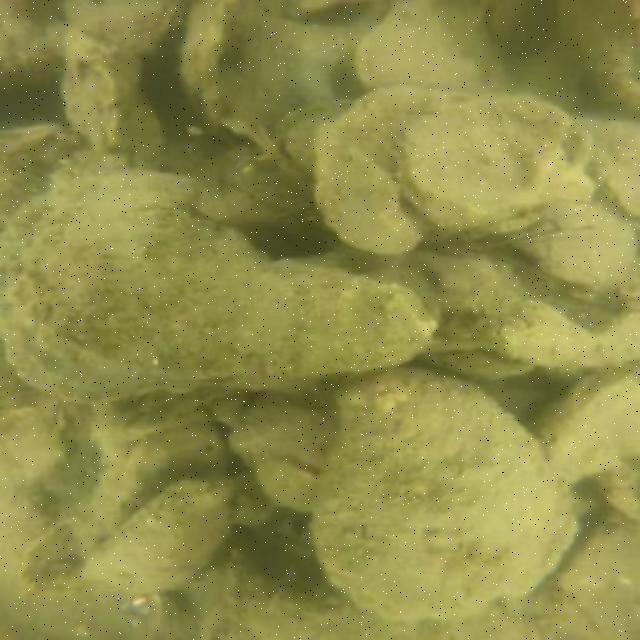Oyster-Closed: (1, 162, 428, 401), (319, 369, 565, 617), (398, 102, 596, 235), (313, 89, 472, 251), (226, 588, 638, 638), (86, 476, 233, 594), (351, 2, 496, 95), (544, 367, 637, 480), (227, 388, 336, 468), (76, 0, 175, 52)
